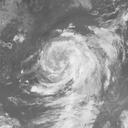cyclone: (37, 27, 110, 103)
